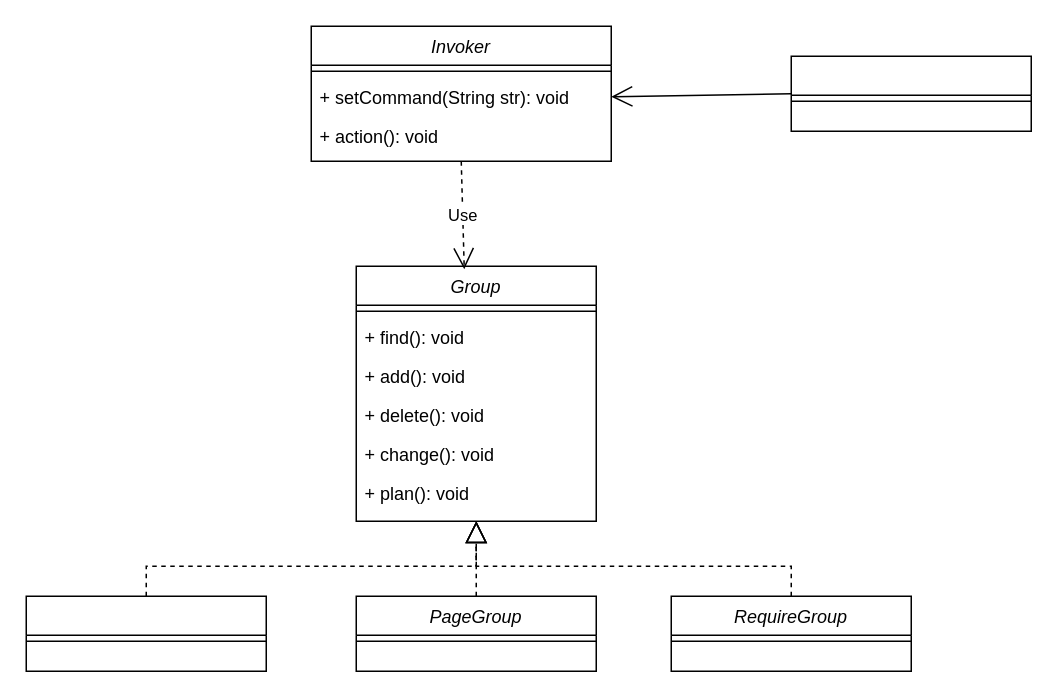
This 1058x698 diagram has some shape labels left out. Each missing label, with the centre of its shape:
Client: pixel 910 93
CodeGroup: pixel 145 633
